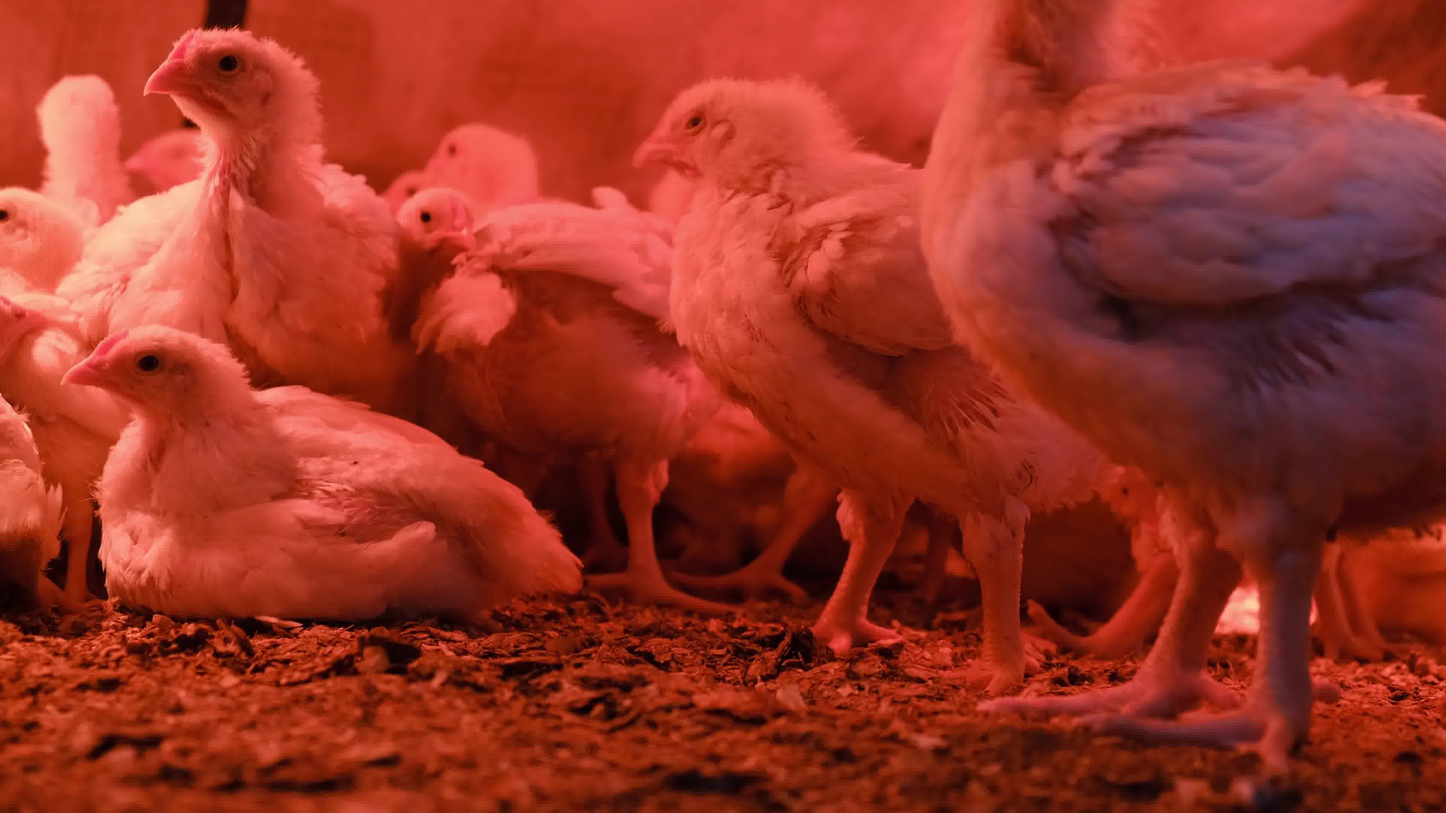AbNormal: (64, 324, 581, 616), (0, 286, 59, 625)
Normal: (915, 0, 1446, 763), (631, 81, 1120, 693), (387, 124, 752, 618), (61, 29, 418, 431), (0, 177, 143, 602), (349, 189, 473, 441), (43, 70, 130, 241), (117, 128, 221, 197), (382, 164, 439, 210)
